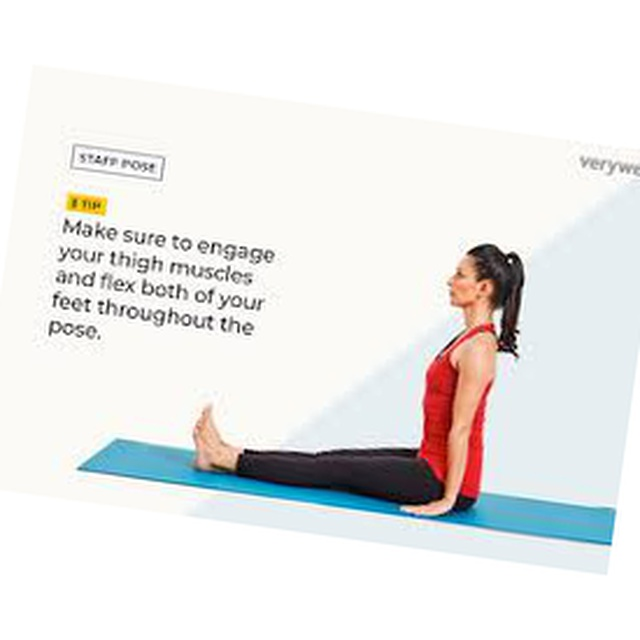Staff_Pose: (192, 243, 525, 521)
